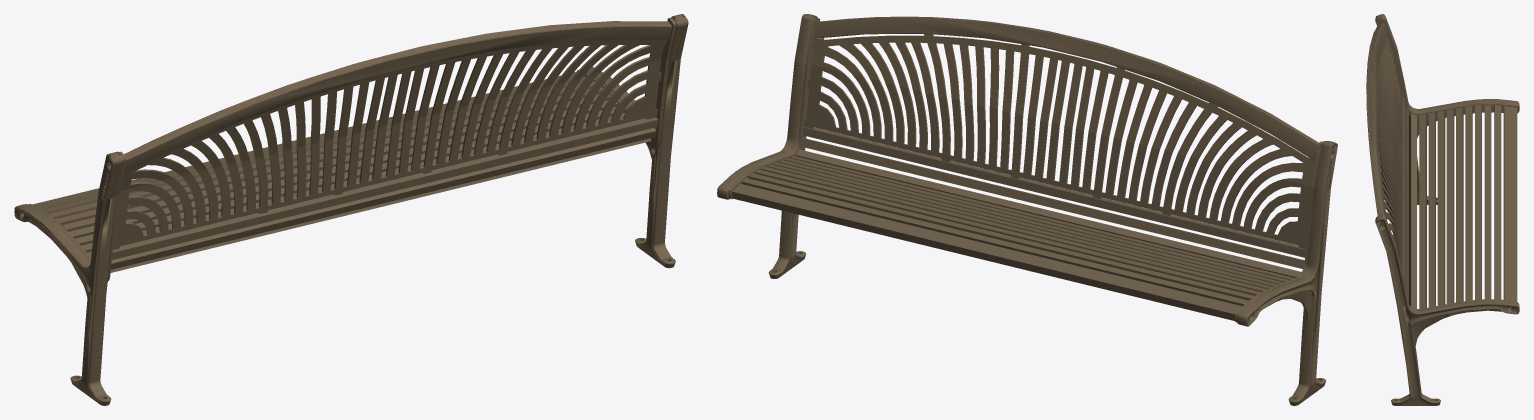
3 views of the same model, side by side, from view 1: azimuth 30°, elevation 25°; view 2: azimuth 150°, elevation 25°; view 3: azimuth 270°, elevation 25° (orthographic). The views are drawn at different scales.
Visible parts, largest first — view 1: mesh177_mesh177-geometry, mesh166_mesh166-geometry, mesh1_mesh1-geometry, mesh173_mesh173-geometry, mesh171_mesh171-geometry, mesh168_mesh168-geometry; view 2: mesh177_mesh177-geometry, mesh166_mesh166-geometry, mesh1_mesh1-geometry, mesh173_mesh173-geometry, mesh171_mesh171-geometry, mesh168_mesh168-geometry; view 3: mesh166_mesh166-geometry, mesh1_mesh1-geometry, mesh177_mesh177-geometry, mesh171_mesh171-geometry, mesh173_mesh173-geometry, mesh168_mesh168-geometry.
Part boxes in pixels (x1=…): mesh177_mesh177-geometry: x1=113, y1=39, x2=666, y2=249; mesh166_mesh166-geometry: x1=42, y1=77, x2=658, y2=272; mesh1_mesh1-geometry: x1=14, y1=14, x2=688, y2=405; mesh173_mesh173-geometry: x1=123, y1=21, x2=672, y2=173; mesh171_mesh171-geometry: x1=32, y1=71, x2=585, y2=209; mesh168_mesh168-geometry: x1=28, y1=17, x2=676, y2=281; mesh177_mesh177-geometry: x1=804, y1=34, x2=1315, y2=249; mesh166_mesh166-geometry: x1=742, y1=127, x2=1305, y2=305; mesh1_mesh1-geometry: x1=717, y1=14, x2=1337, y2=405; mesh173_mesh173-geometry: x1=813, y1=16, x2=1318, y2=161; mesh171_mesh171-geometry: x1=732, y1=183, x2=1242, y2=320; mesh168_mesh168-geometry: x1=728, y1=18, x2=1322, y2=322; mesh166_mesh166-geometry: x1=1402, y1=98, x2=1501, y2=308; mesh1_mesh1-geometry: x1=1375, y1=14, x2=1519, y2=405; mesh177_mesh177-geometry: x1=1376, y1=36, x2=1402, y2=272; mesh171_mesh171-geometry: x1=1503, y1=106, x2=1517, y2=300; mesh173_mesh173-geometry: x1=1366, y1=22, x2=1388, y2=219; mesh168_mesh168-geometry: x1=1377, y1=18, x2=1518, y2=309.
Bounding box in the file's own units: 0.8637 × 0.424 × 0.2725.
